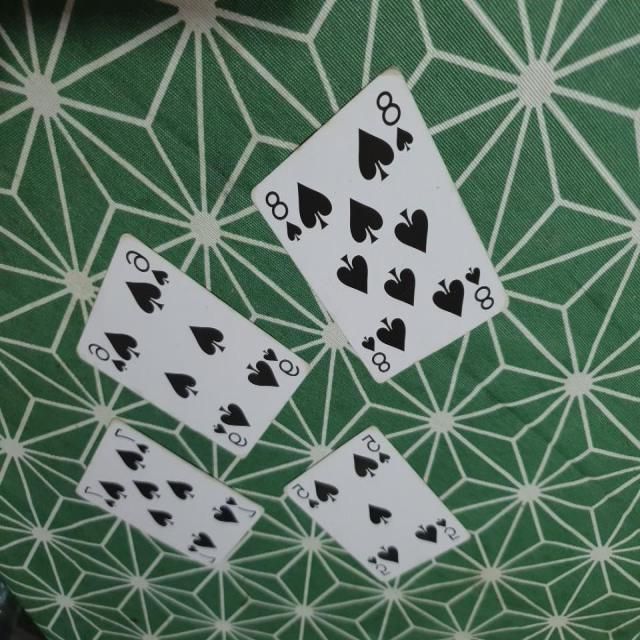5 of spades: (282, 416, 468, 608)
6 of spades: (77, 233, 311, 473)
7 of spades: (70, 423, 278, 576)
8 of spades: (248, 70, 518, 402)
